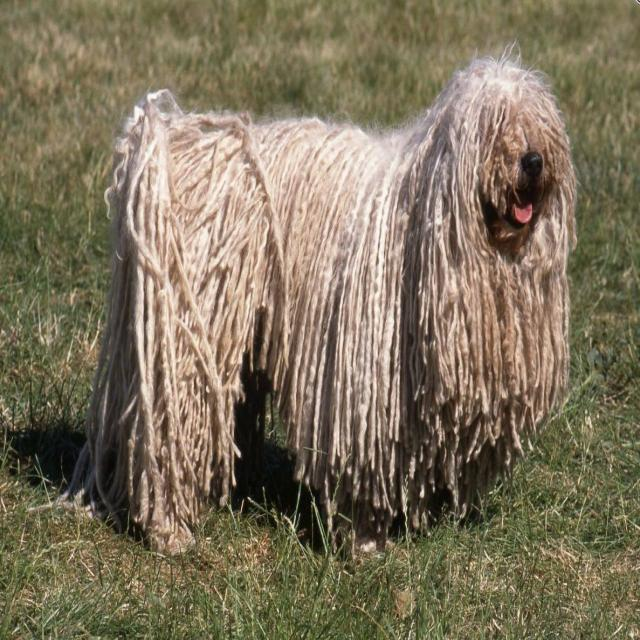Dogs: (62, 50, 580, 564)
